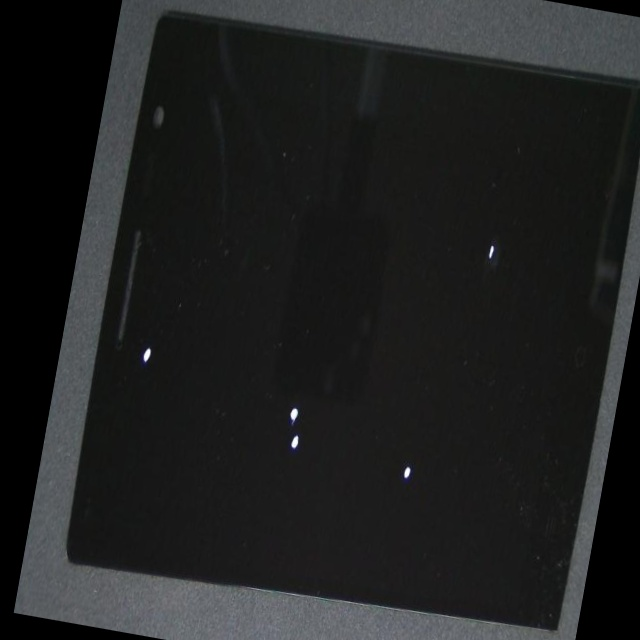stain: (165, 172, 619, 640), (100, 196, 450, 640), (233, 97, 640, 445), (38, 174, 221, 622)
